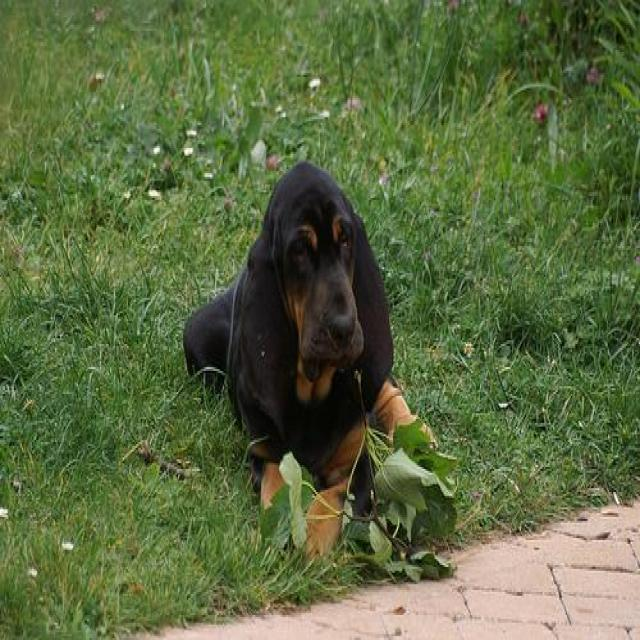bloodhound: (179, 156, 437, 563)
